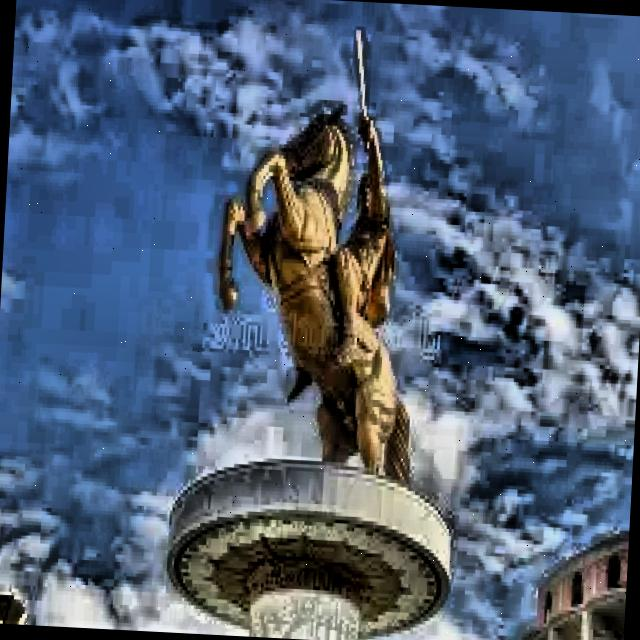alexander the great monument: (158, 10, 487, 640)
